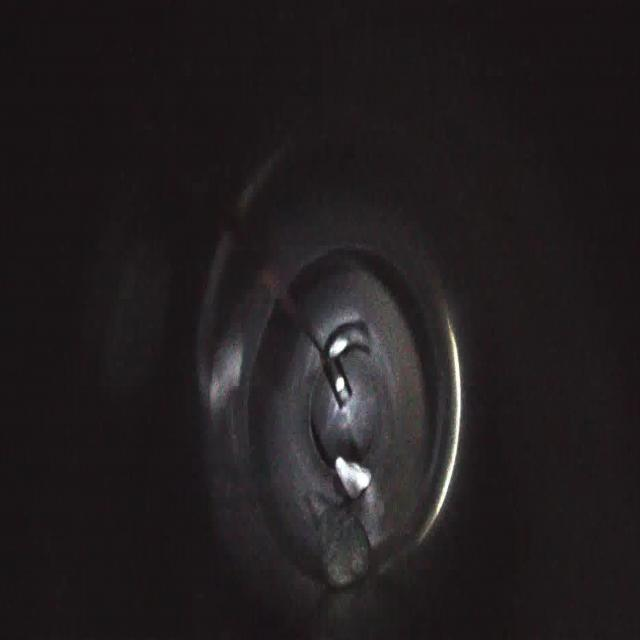impurity: (316, 510, 372, 592), (332, 453, 374, 500)
